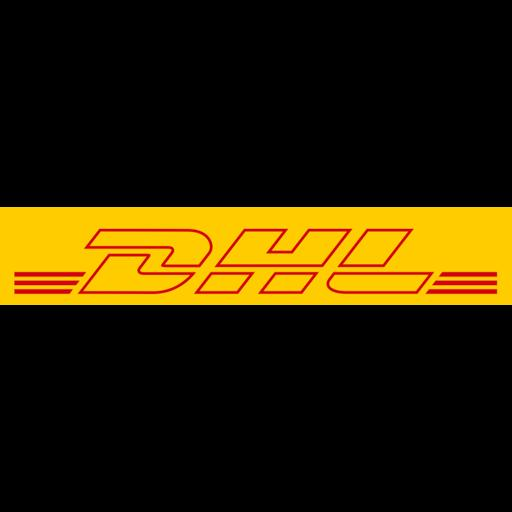DHL: (0, 207, 512, 305)
